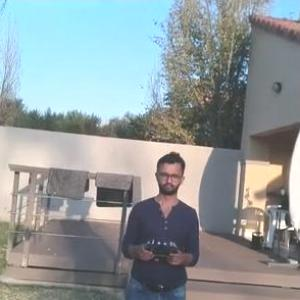follow: (116, 142, 205, 299)
